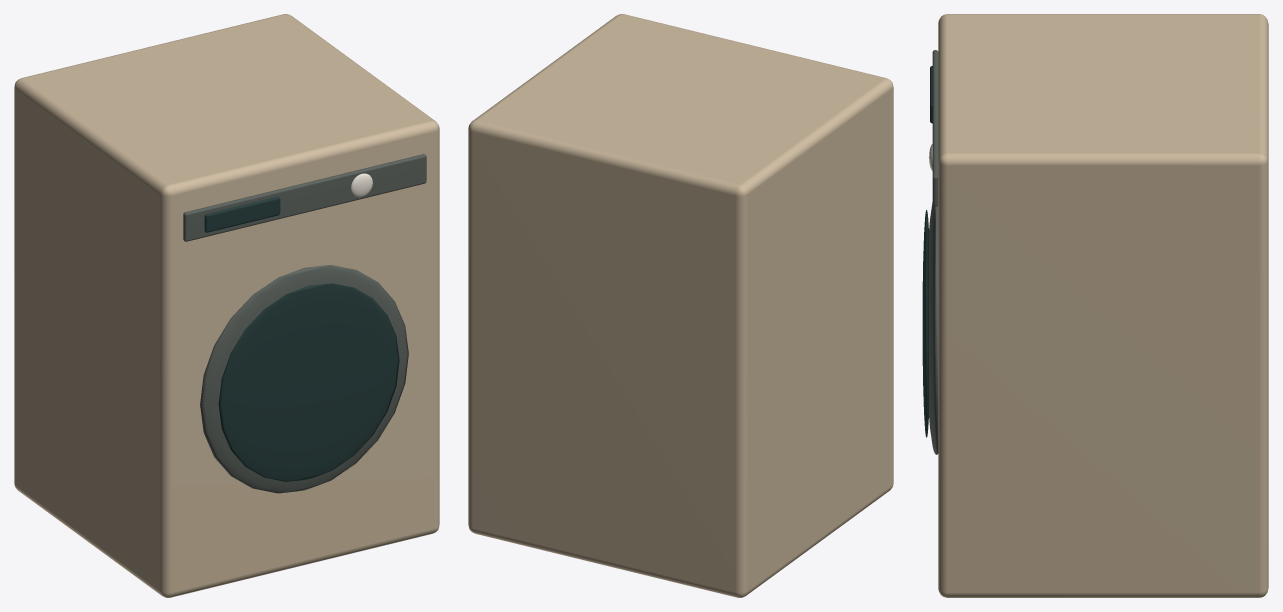
The picture shows the model from 3 angles, left to right: view 1: azimuth 30°, elevation 25°; view 2: azimuth 150°, elevation 25°; view 3: azimuth 270°, elevation 25°; orthographic projection. The views are drawn at different scales.
Parts seen in each view (by area): view 1: body, glass, door_frame, control, control_display; view 2: body; view 3: body, door_frame, glass, control.
Part boxes in pixels (left/top/right/bottom): body: left=14, top=14, right=439, bottom=597; glass: left=218, top=283, right=399, bottom=481; door_frame: left=200, top=265, right=408, bottom=493; control: left=183, top=154, right=426, bottom=241; control_display: left=204, top=196, right=280, bottom=232; body: left=468, top=14, right=893, bottom=597; body: left=938, top=14, right=1268, bottom=597; door_frame: left=929, top=202, right=938, bottom=454; glass: left=922, top=210, right=928, bottom=437; control: left=932, top=50, right=938, bottom=206.
Bounding box in the file's own units: 0.6 × 0.85 × 0.6.
